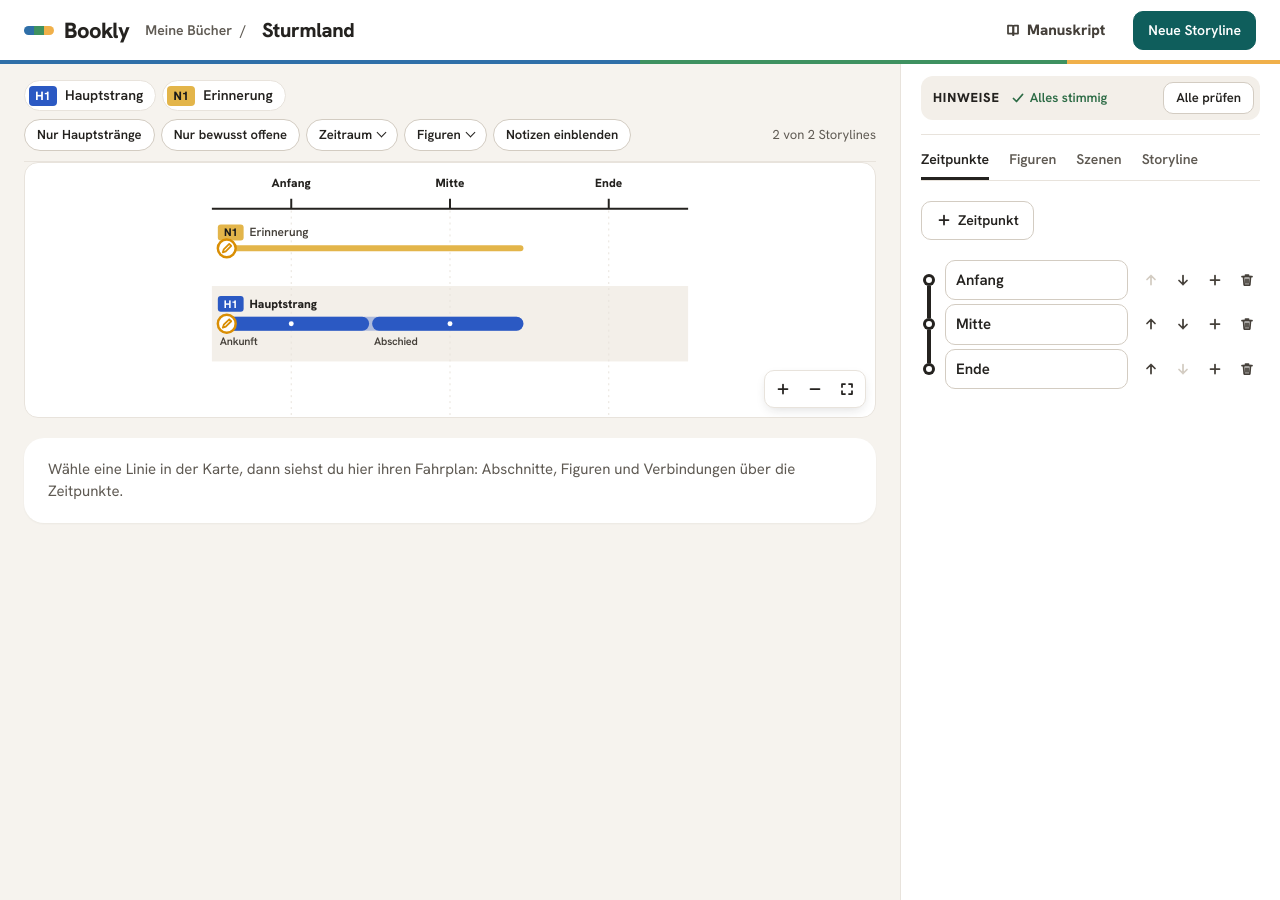
Test: ScenePanel › assigns a scene right from its card, also to a side strand, and opens that storyline
Click the tab "Szenen". click: coordinates (1099, 159)
box: [1076,138,1122,180]
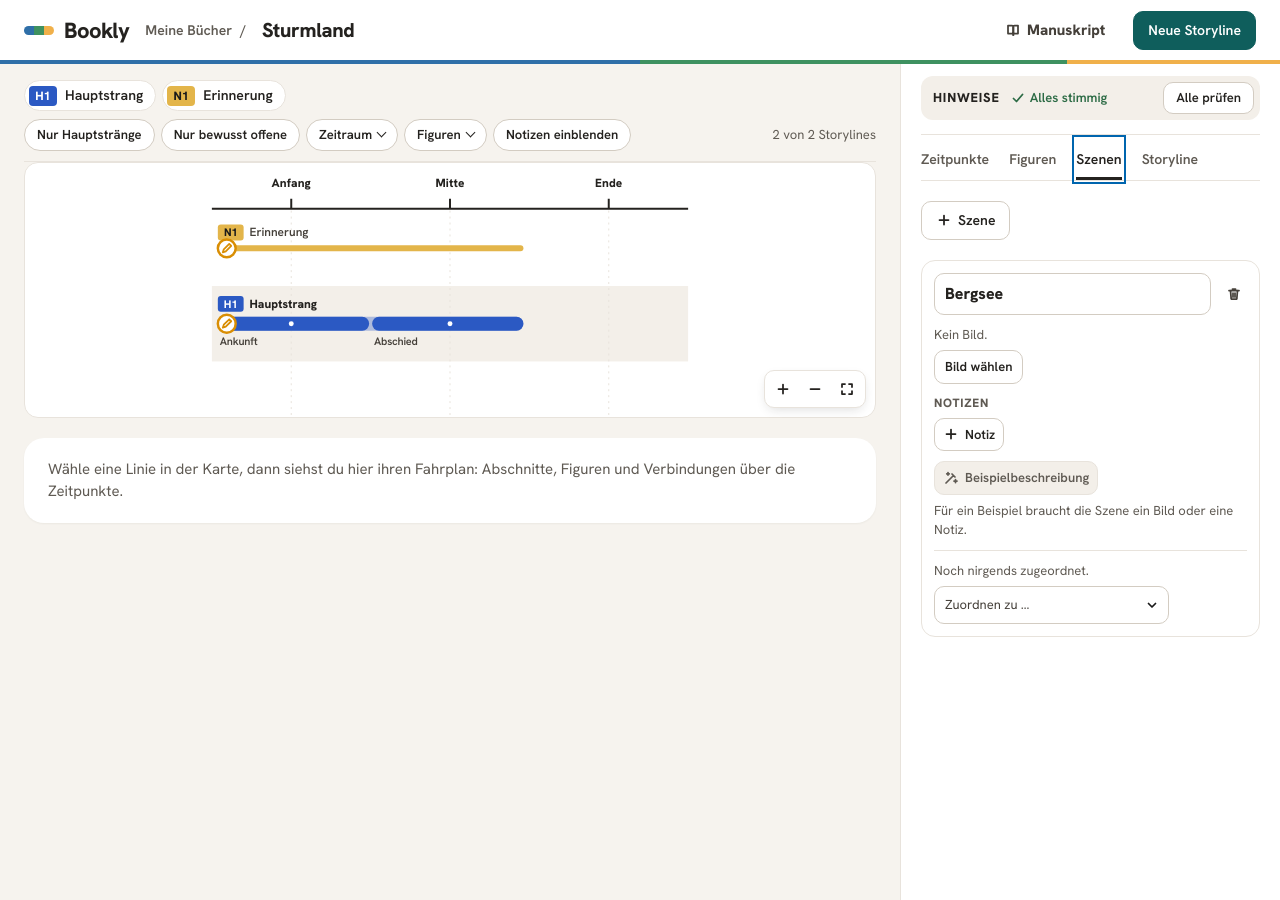
Select "Erinnerung" in the dropdown named "Szene Bergsee zuordnen". click: coordinates (1052, 605)
box: [934,586,1169,624]
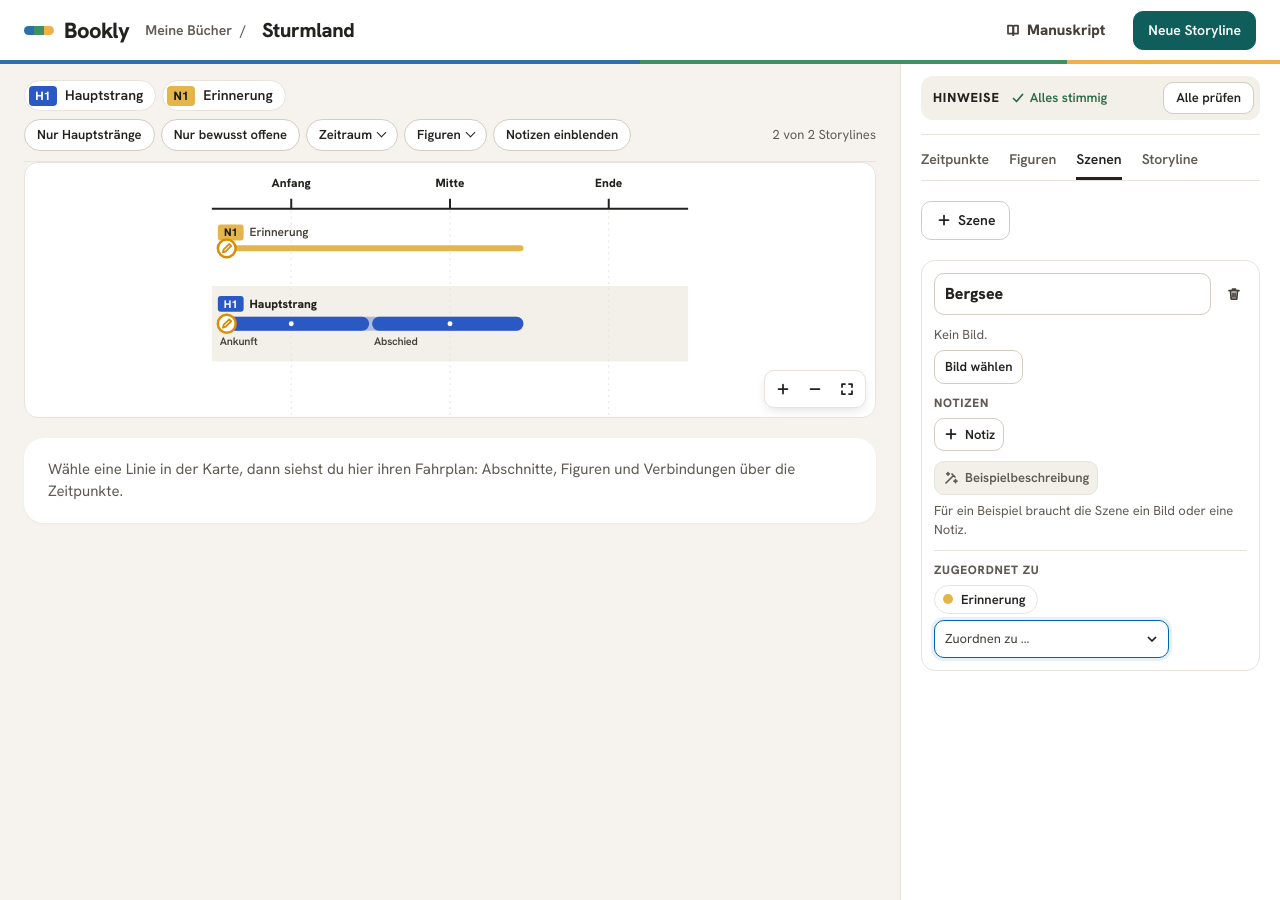
Click the button with aria-label "Storyline „Erinnerung“ öffnen". click: coordinates (986, 599)
box: [934,584,1038,614]
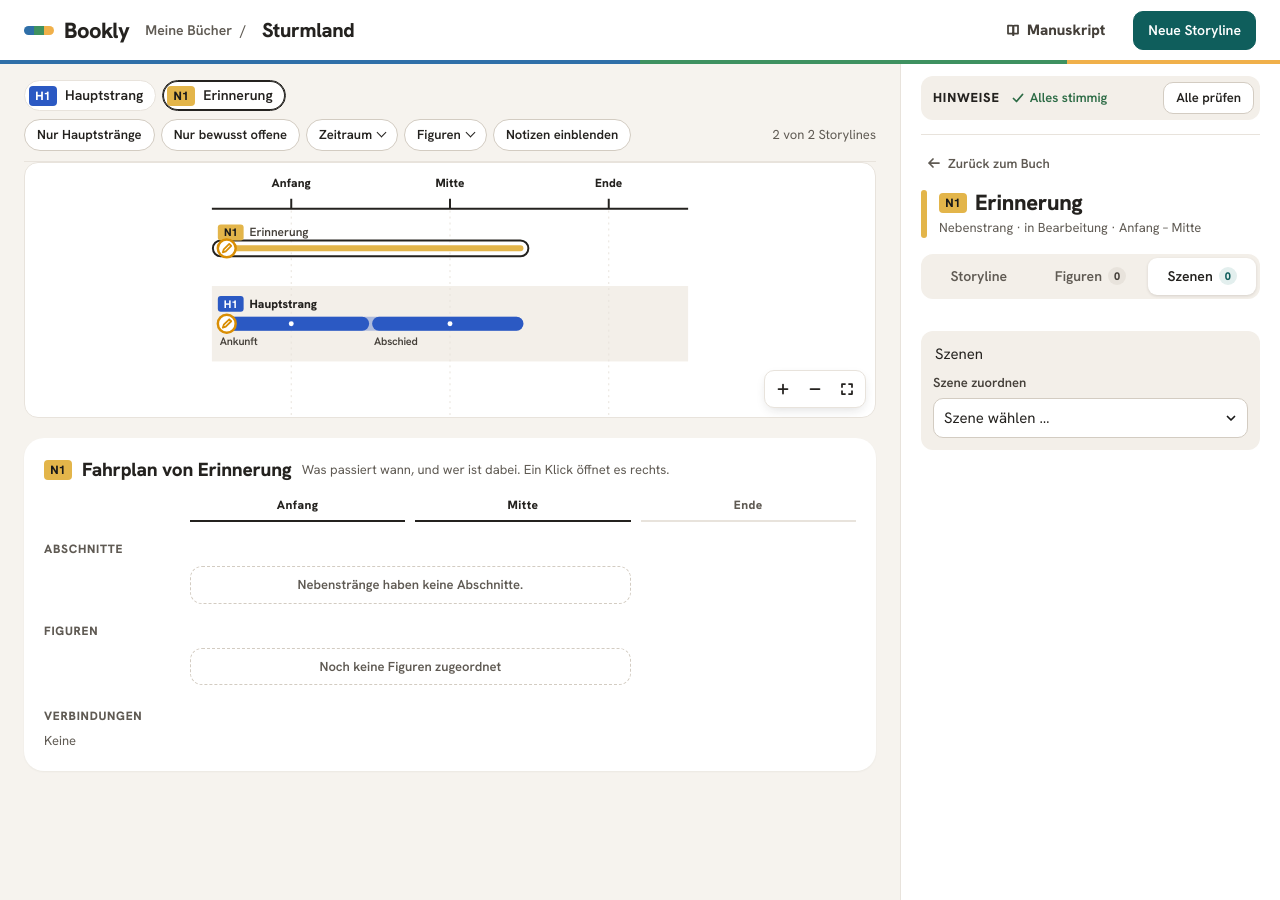
Now the element "Szenen" is shown, box [921,331,1260,450]
